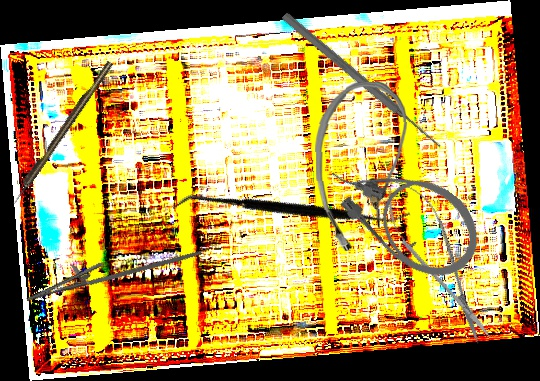Cannula: (314, 128, 496, 295), (313, 80, 411, 252)
Hook Surgical: (8, 59, 115, 207)
Micro Scissor: (370, 166, 505, 353)
Needle Holder: (21, 217, 202, 323)
Pusher: (279, 10, 446, 153)
Spatula Surgical: (170, 109, 413, 312)
